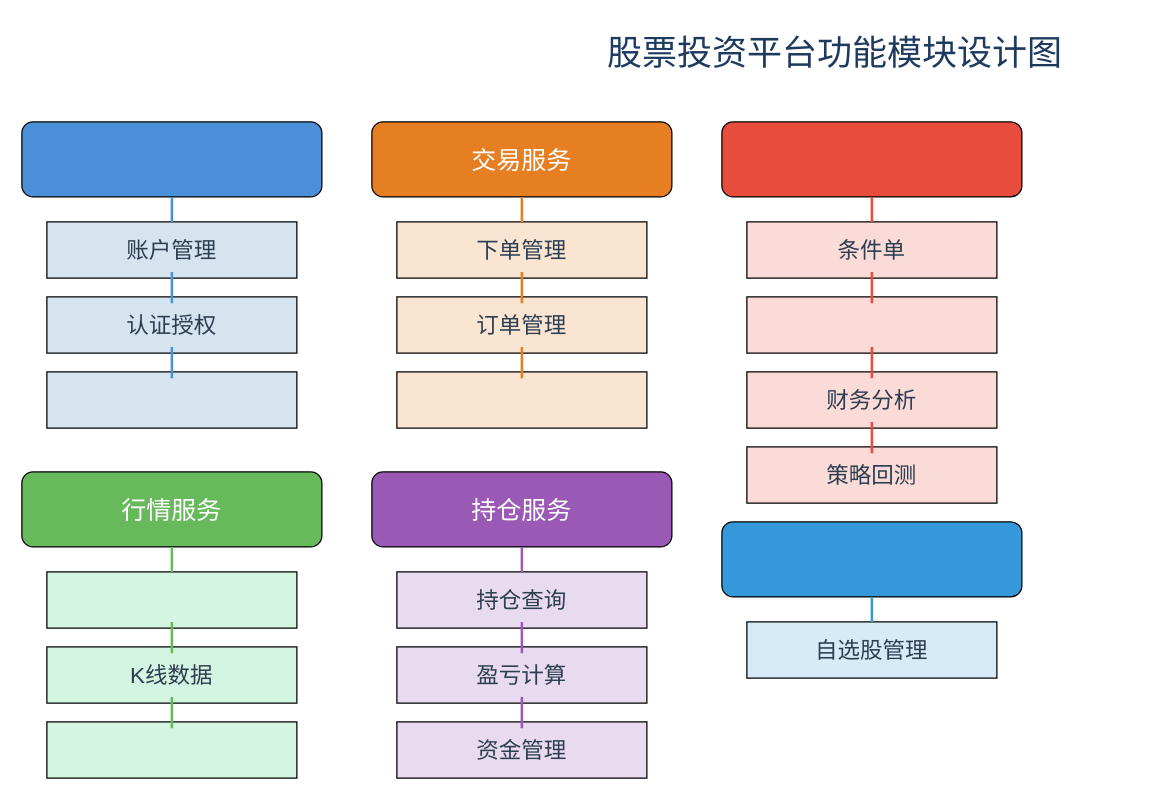
The diagram is 1169 pixels wide and 800 high, and some of its shapes have lost their labels. Here are the shapes that lost their labels. From the top down, the centre of each, then its label:
At point (171, 159): "用户服务".
At point (871, 159): "分析服务".
At point (871, 324): "价格预警".
At point (171, 399): "头像管理".
At point (521, 399): "资金验证".
At point (871, 559): "自选股".
At point (171, 599): "实时行情".
At point (171, 749): "技术指标".
